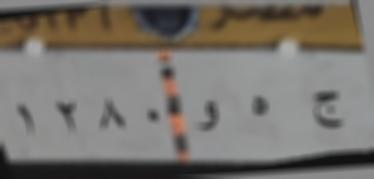0: (142, 105, 164, 130)
1: (13, 98, 40, 143)
2: (52, 96, 82, 137)
8: (92, 94, 129, 140)
haa: (243, 90, 279, 126)
jeem: (307, 84, 346, 135)
waw: (193, 96, 224, 140)
